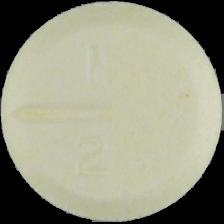51079-812: (0, 0, 224, 224)
